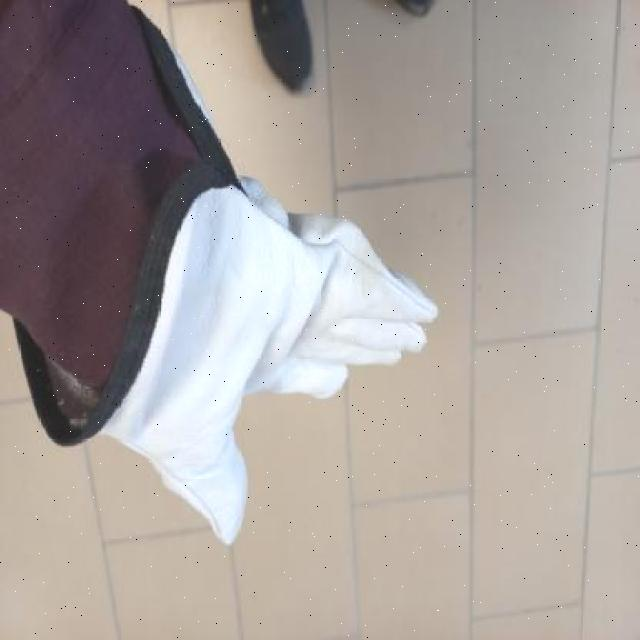Boots: (244, 0, 313, 96)
